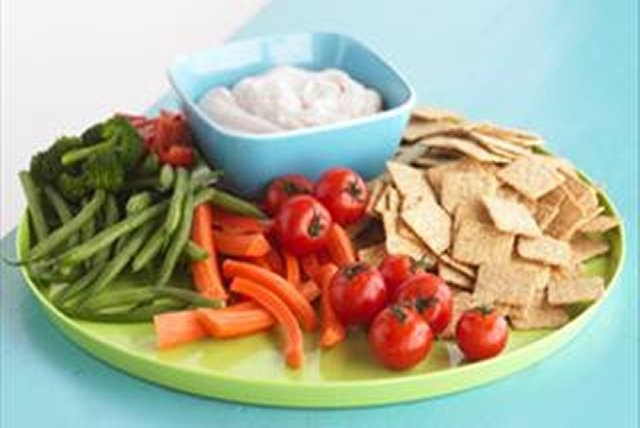background: (0, 70, 621, 246), (188, 44, 382, 90)
